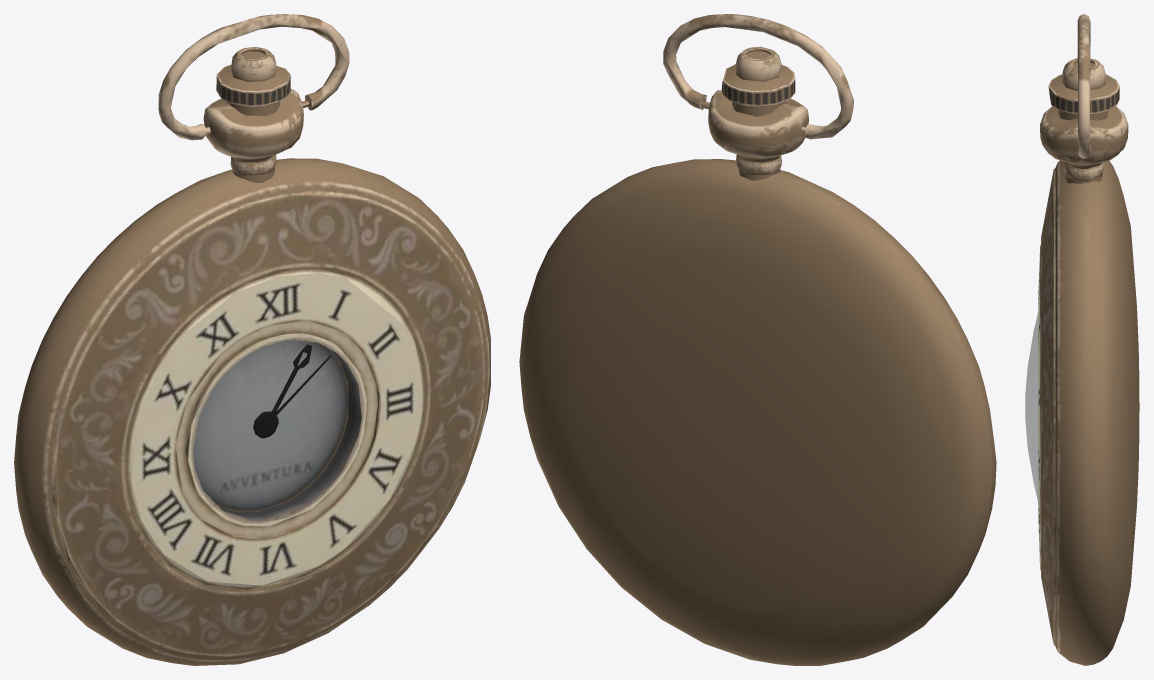
The model's file is vintage_pocket_watch.glb.
3 renders of one model, left to right at view 1: azimuth 30°, elevation 25°; view 2: azimuth 150°, elevation 25°; view 3: azimuth 270°, elevation 25°, orthographic. The views are drawn at different scales.
Parts seen in each view (by area): view 1: vintage_pocket_watch; view 2: vintage_pocket_watch; view 3: vintage_pocket_watch.
Part boxes in pixels (x1=…): vintage_pocket_watch: x1=14, y1=14, x2=490, y2=665; vintage_pocket_watch: x1=519, y1=14, x2=996, y2=665; vintage_pocket_watch: x1=1025, y1=14, x2=1139, y2=665.
Bounding box in the file's own units: 0.0613 × 0.0799 × 0.0135.
3 materials, 1 textured.
